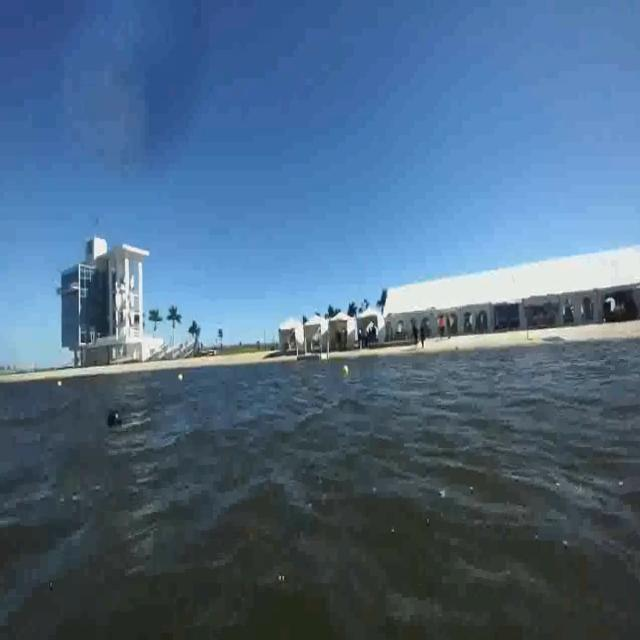black-buoy: (108, 409, 124, 428)
yellow-buoy: (342, 362, 351, 377)
